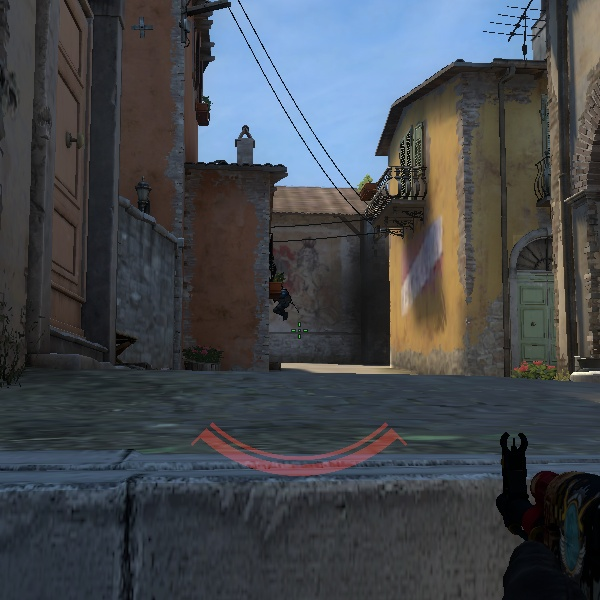t_body: (264, 266, 294, 321)
